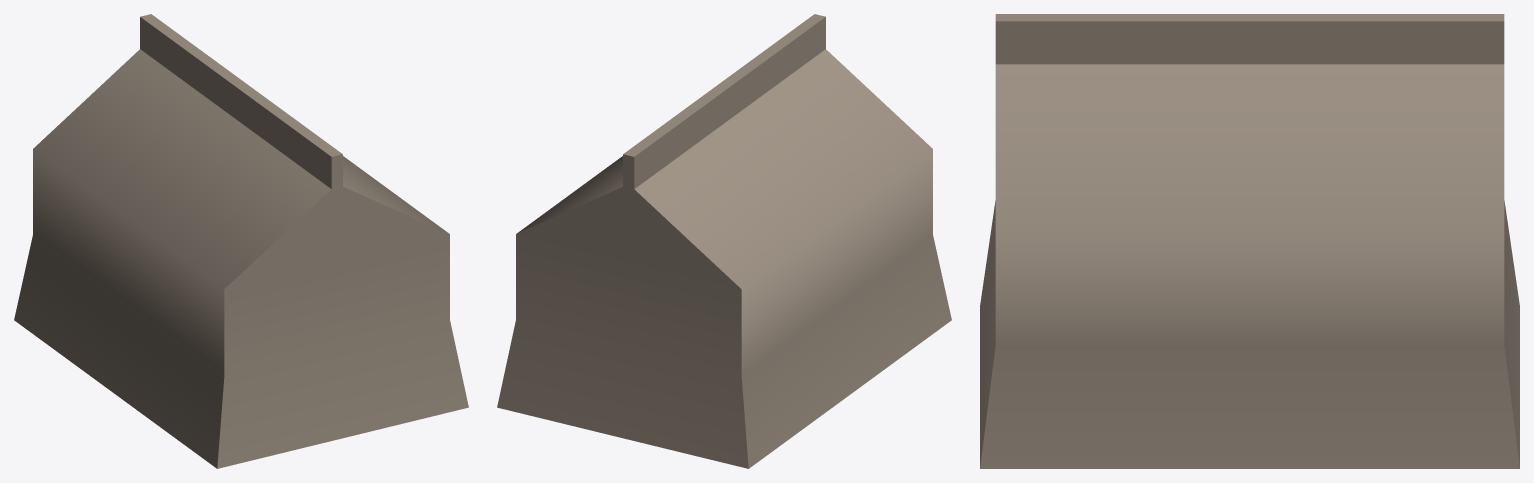
File: medTent.fbx
3 renders of one model, left to right at view 1: azimuth 30°, elevation 25°; view 2: azimuth 150°, elevation 25°; view 3: azimuth 270°, elevation 25°, orthographic. The views are drawn at different scales.
Parts seen in each view (by area): view 1: Med_Tent; view 2: Med_Tent; view 3: Med_Tent.
Boxes of the visible parts, x1,y1,x2,y2 form: Med_Tent: (14,14,468,468); Med_Tent: (497,14,951,468); Med_Tent: (980,14,1519,468).
Bounding box in the file's own units: 361 × 381 × 504.
